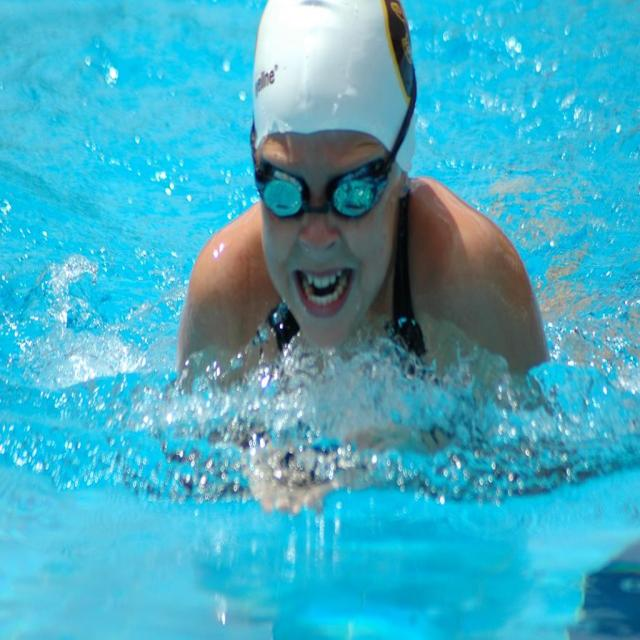Face: (244, 124, 398, 356)
